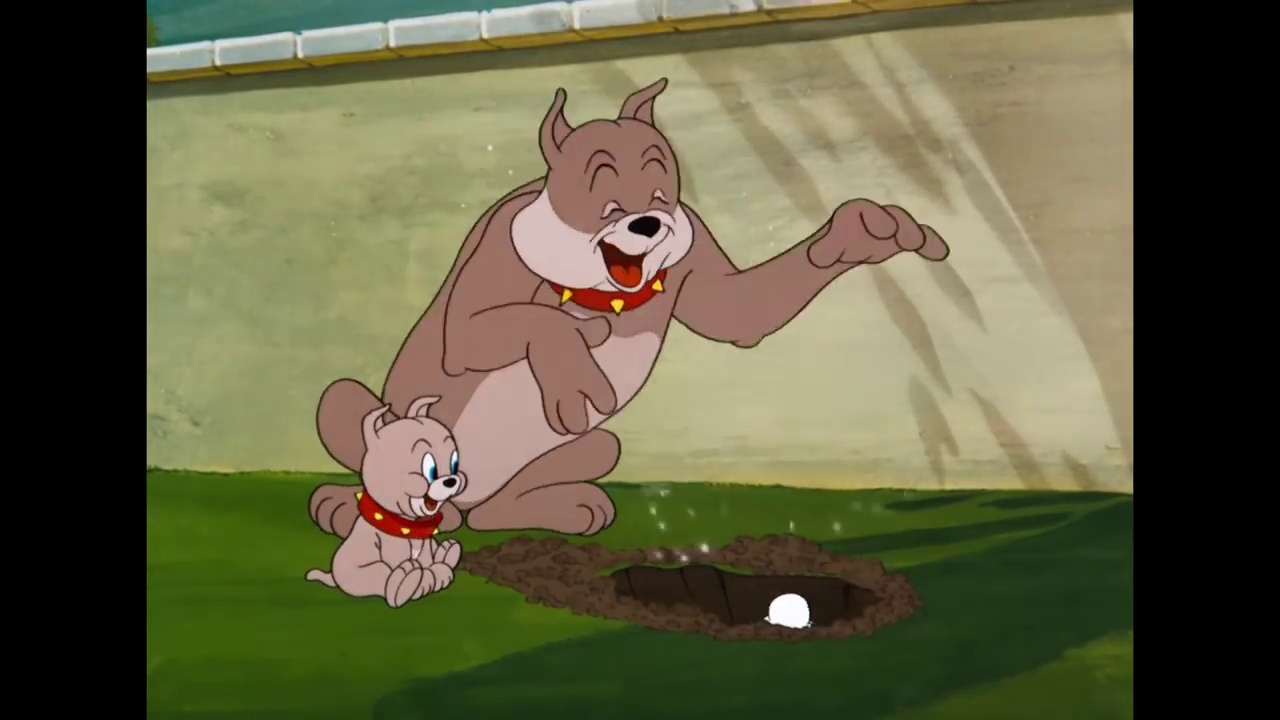spike: (501, 72, 699, 322)
